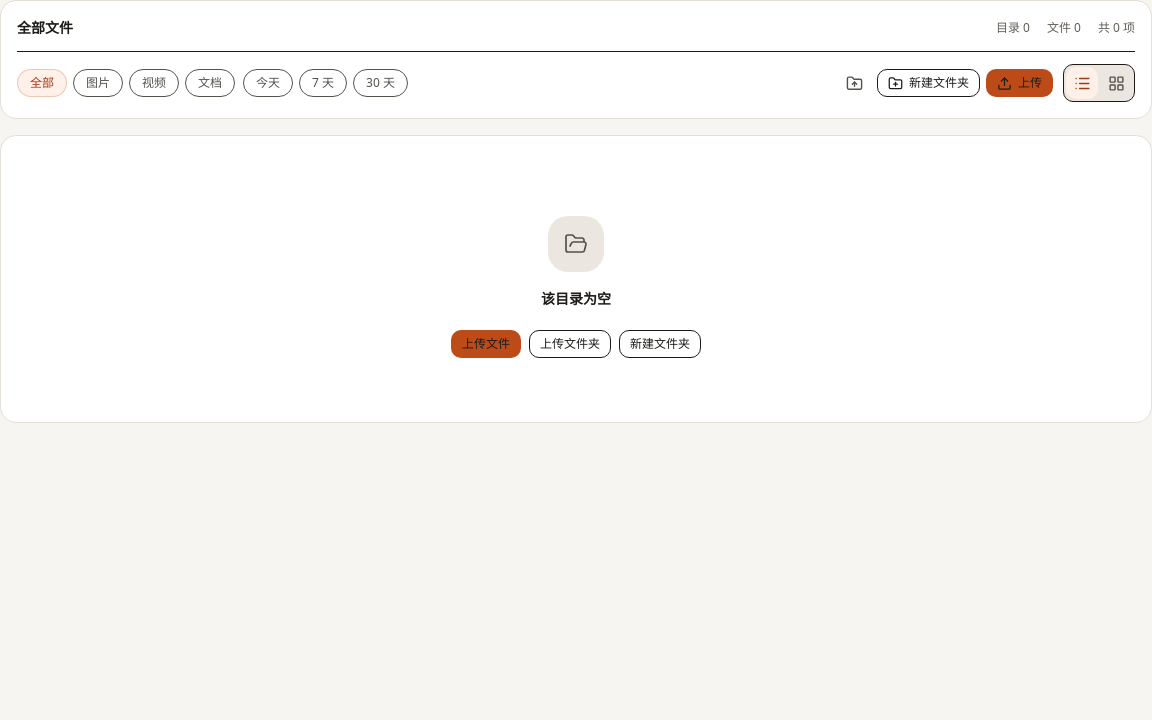
Test: empty dir offers upload and create-folder CTAs
Expected: the heading "该目录为空" is shown, [541,288,611,310]
Step 1. Click the button "新建文件夹" below "该目录为空" → (660, 344), box [619,330,701,358]
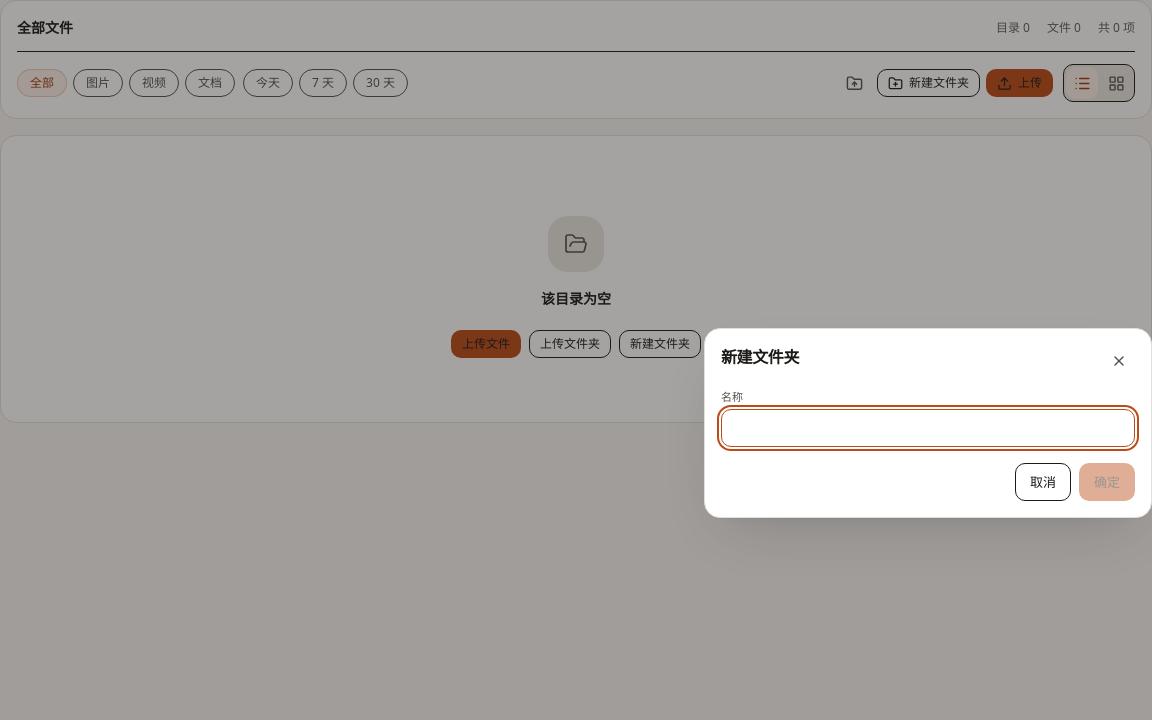
Now the field labelled "名称" is shown, box [721,409,1135,447]
